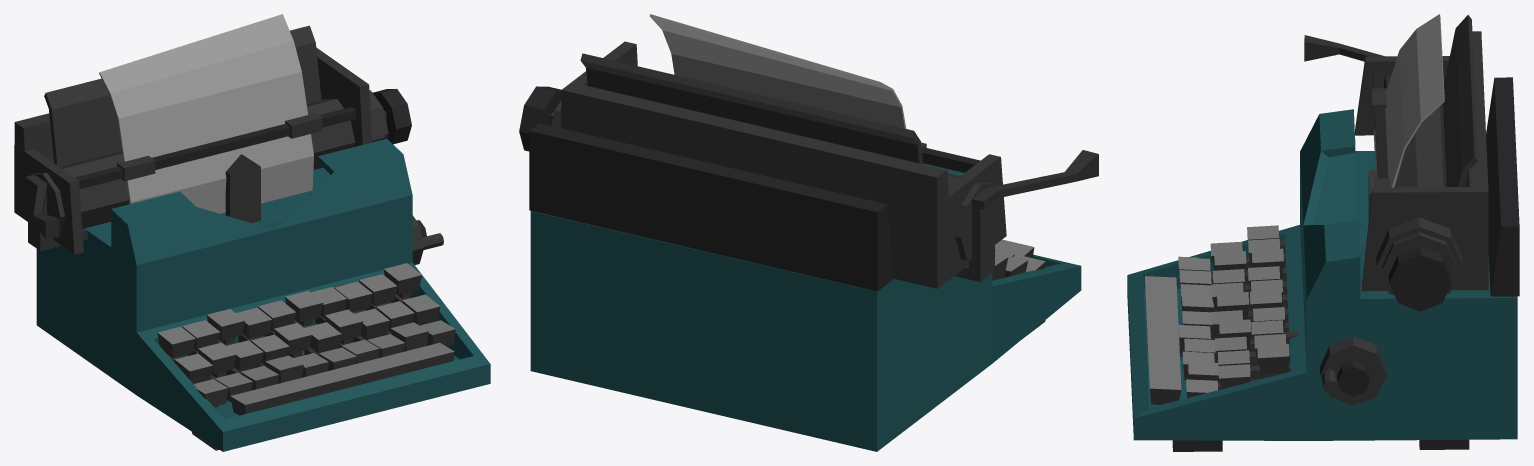
The model's file is Typewriter.glb.
3 views of the same model, side by side, from view 1: azimuth 30°, elevation 25°; view 2: azimuth 150°, elevation 25°; view 3: azimuth 270°, elevation 25° (orthographic). The views are drawn at different scales.
Visible parts, largest first — view 1: Typewriter; view 2: Typewriter; view 3: Typewriter.
Part boxes in pixels (x1,y1,x2,y2): Typewriter: (14, 14, 490, 451); Typewriter: (519, 14, 1098, 451); Typewriter: (1127, 14, 1519, 451).
Size of what is drawn, in the model's own units: 0.7701 by 0.536 by 0.5915.
Materials: 1 (1 with a texture image).
